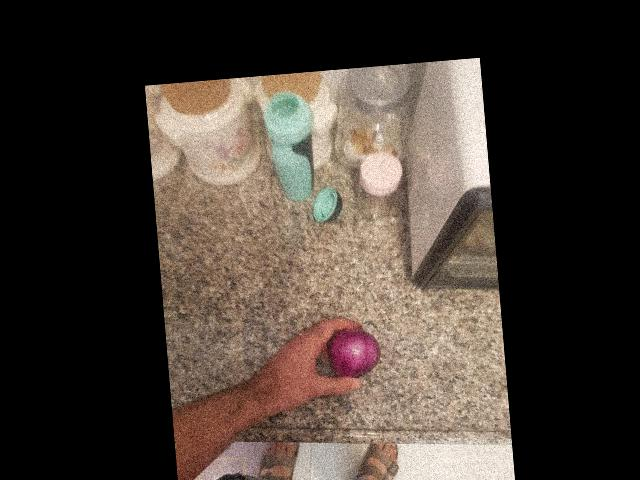onion: (318, 326, 379, 384)
